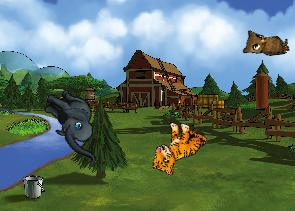elephant: (30, 84, 116, 163)
owl: (240, 25, 290, 58)
tiger: (148, 116, 209, 182)
